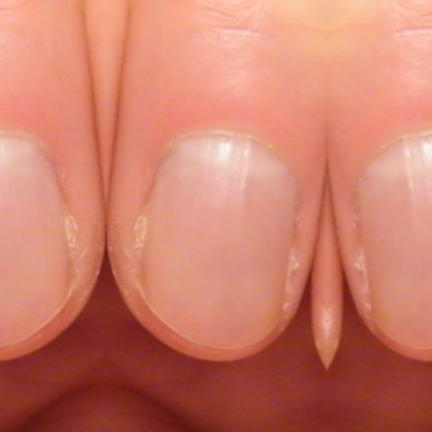Nail: (140, 132, 294, 349), (360, 132, 432, 349), (0, 132, 70, 348)
